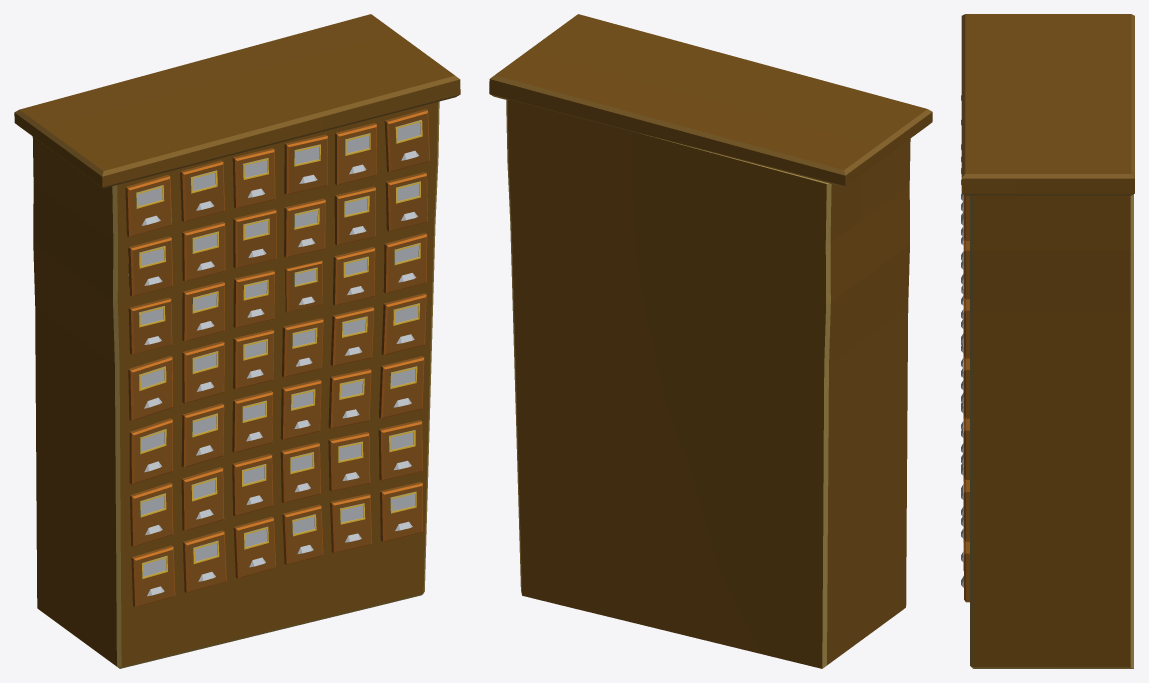
The model's file is CubbyHoles.fbx.
3 views of the same model, side by side, from view 1: azimuth 30°, elevation 25°; view 2: azimuth 150°, elevation 25°; view 3: azimuth 270°, elevation 25° (orthographic).
Visible parts, largest first — view 1: Cube, Cube.001, Drawer1.002, Drawer1.001, Drawer1, Drawer1.003, Drawer1.004, Drawer1.006, Drawer1.005, Drawer1.007, Drawer1.008; view 2: Cube; view 3: Cube, Cube.001, Drawer1.006, Drawer1.002.
Boxes of the visible parts, box(x1,y1,x2,y2) form: Cube: box(14, 14, 460, 668); Cube.001: box(125, 123, 427, 607); Drawer1.002: box(384, 109, 429, 172); Drawer1.001: box(284, 134, 327, 194); Drawer1: box(180, 160, 224, 221); Drawer1.003: box(128, 236, 172, 296); Drawer1.004: box(233, 209, 276, 268); Drawer1.006: box(385, 172, 427, 231); Drawer1.005: box(334, 186, 375, 245); Drawer1.007: box(128, 297, 172, 354); Drawer1.008: box(285, 260, 322, 312); Cube: box(489, 14, 932, 668); Cube: box(961, 14, 1134, 668); Cube.001: box(961, 95, 969, 602); Drawer1.006: box(961, 239, 969, 299); Drawer1.002: box(961, 195, 969, 240).
Size of the model in its own units: 1.73 by 2.38 by 0.7372.
